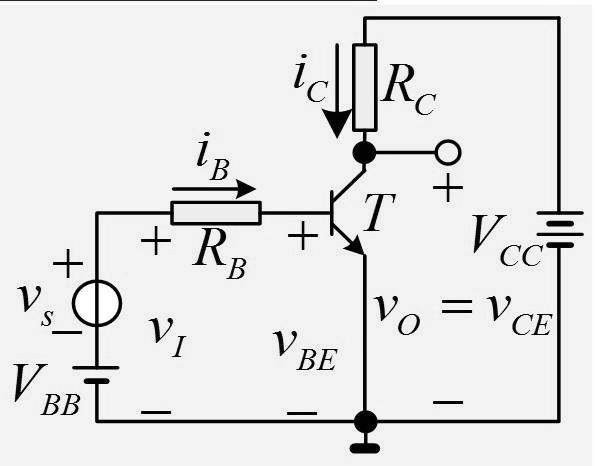power1: (50, 251, 126, 344)
power2: (533, 202, 589, 254), (66, 363, 126, 388)
res1: (165, 197, 267, 229), (349, 39, 381, 136)
triode: (323, 165, 373, 270)
